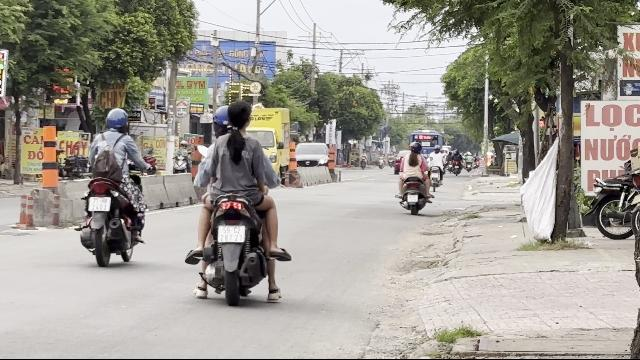helmet: (210, 104, 232, 136), (104, 107, 128, 131)
licenseplate: (217, 226, 245, 243), (88, 197, 110, 211)
motorcyclist: (186, 95, 290, 305), (77, 107, 149, 266), (621, 104, 639, 238)
nohelmet: (227, 100, 253, 132)
